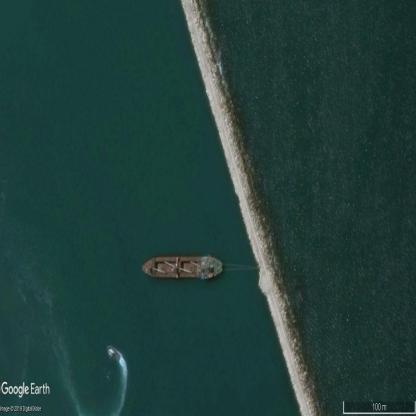ship: (142, 256, 223, 279), (108, 349, 114, 356)
